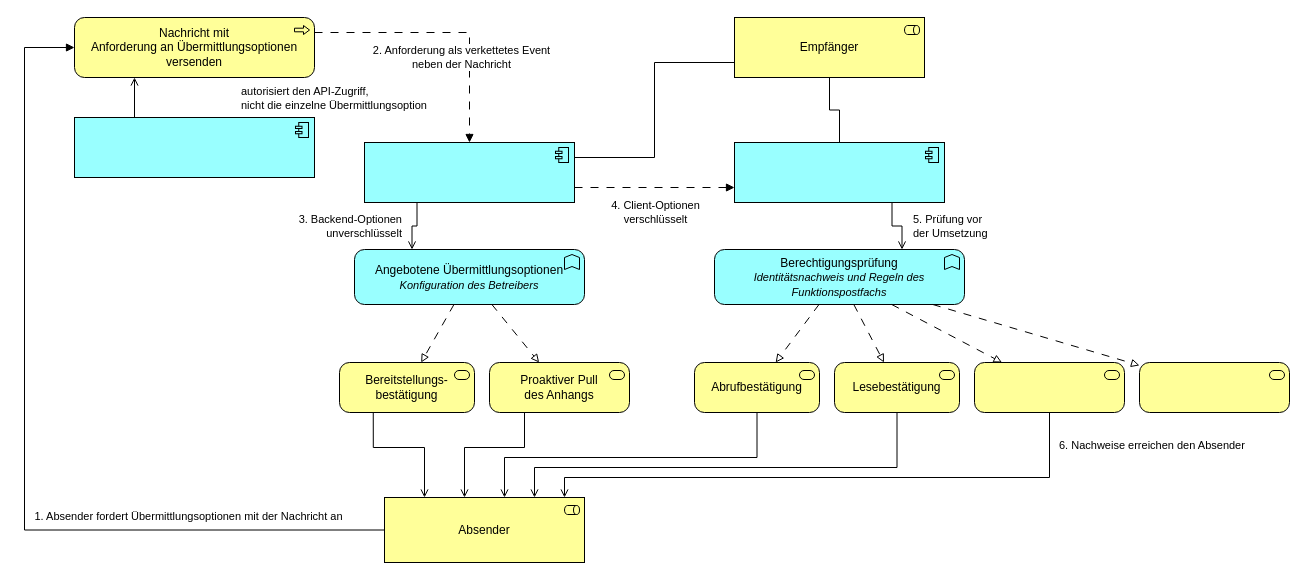
Some shapes in this 1307 by 580 pixel diagram are drawn without their labels. The shapes that lost their labels are listed below. From the top down, each one's centre as x and y in pixels, then its label:
At point (194, 147): "Föderale API- Autorisierungsinfrastruktur oder ZaPuK-Fallback".
At point (469, 172): "Postfach-Backend Empfänger".
At point (839, 172): "Postfach-Zugang Client Empfänger".
At point (1049, 387): "Qualifiziertes Empfangsbekenntnis".
At point (1214, 387): "Mindest-Vertrauens- niveau für Abruf".
